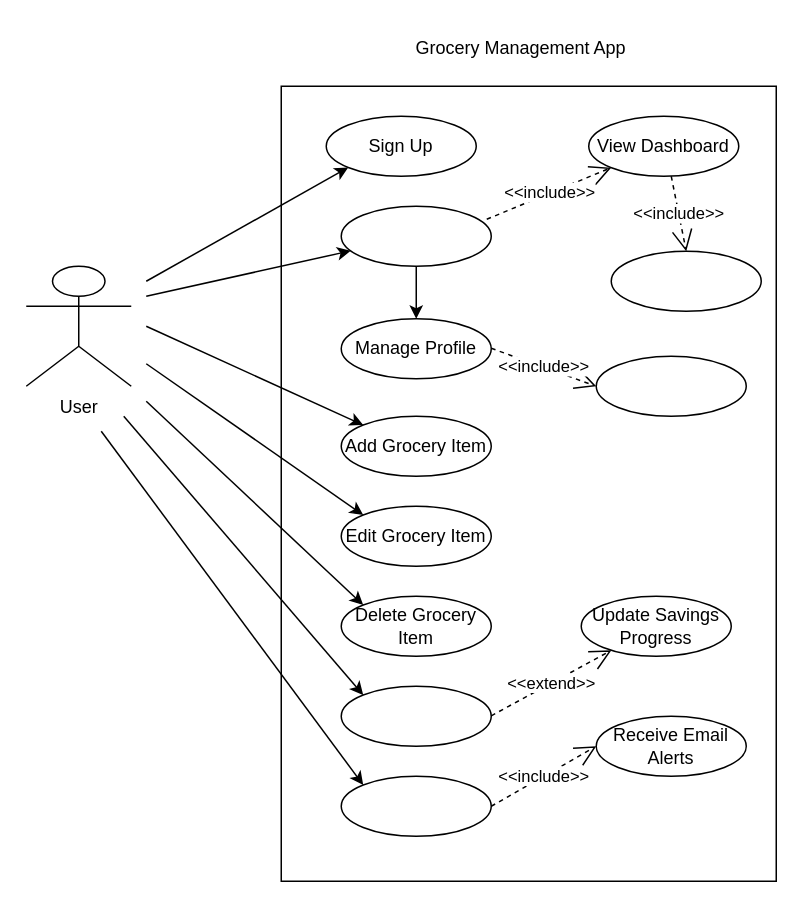
The diagram is 803 pixels wide and 908 high, and some of its shapes have lost their labels. Each missing label, with the centre of its shape:
Create Savings Plan: the point at 415,715
Login: the point at 415,235
Receive Notifications: the point at 415,805
Set Monthly Budget: the point at 670,385
View Charts & Insights: the point at 685,280
